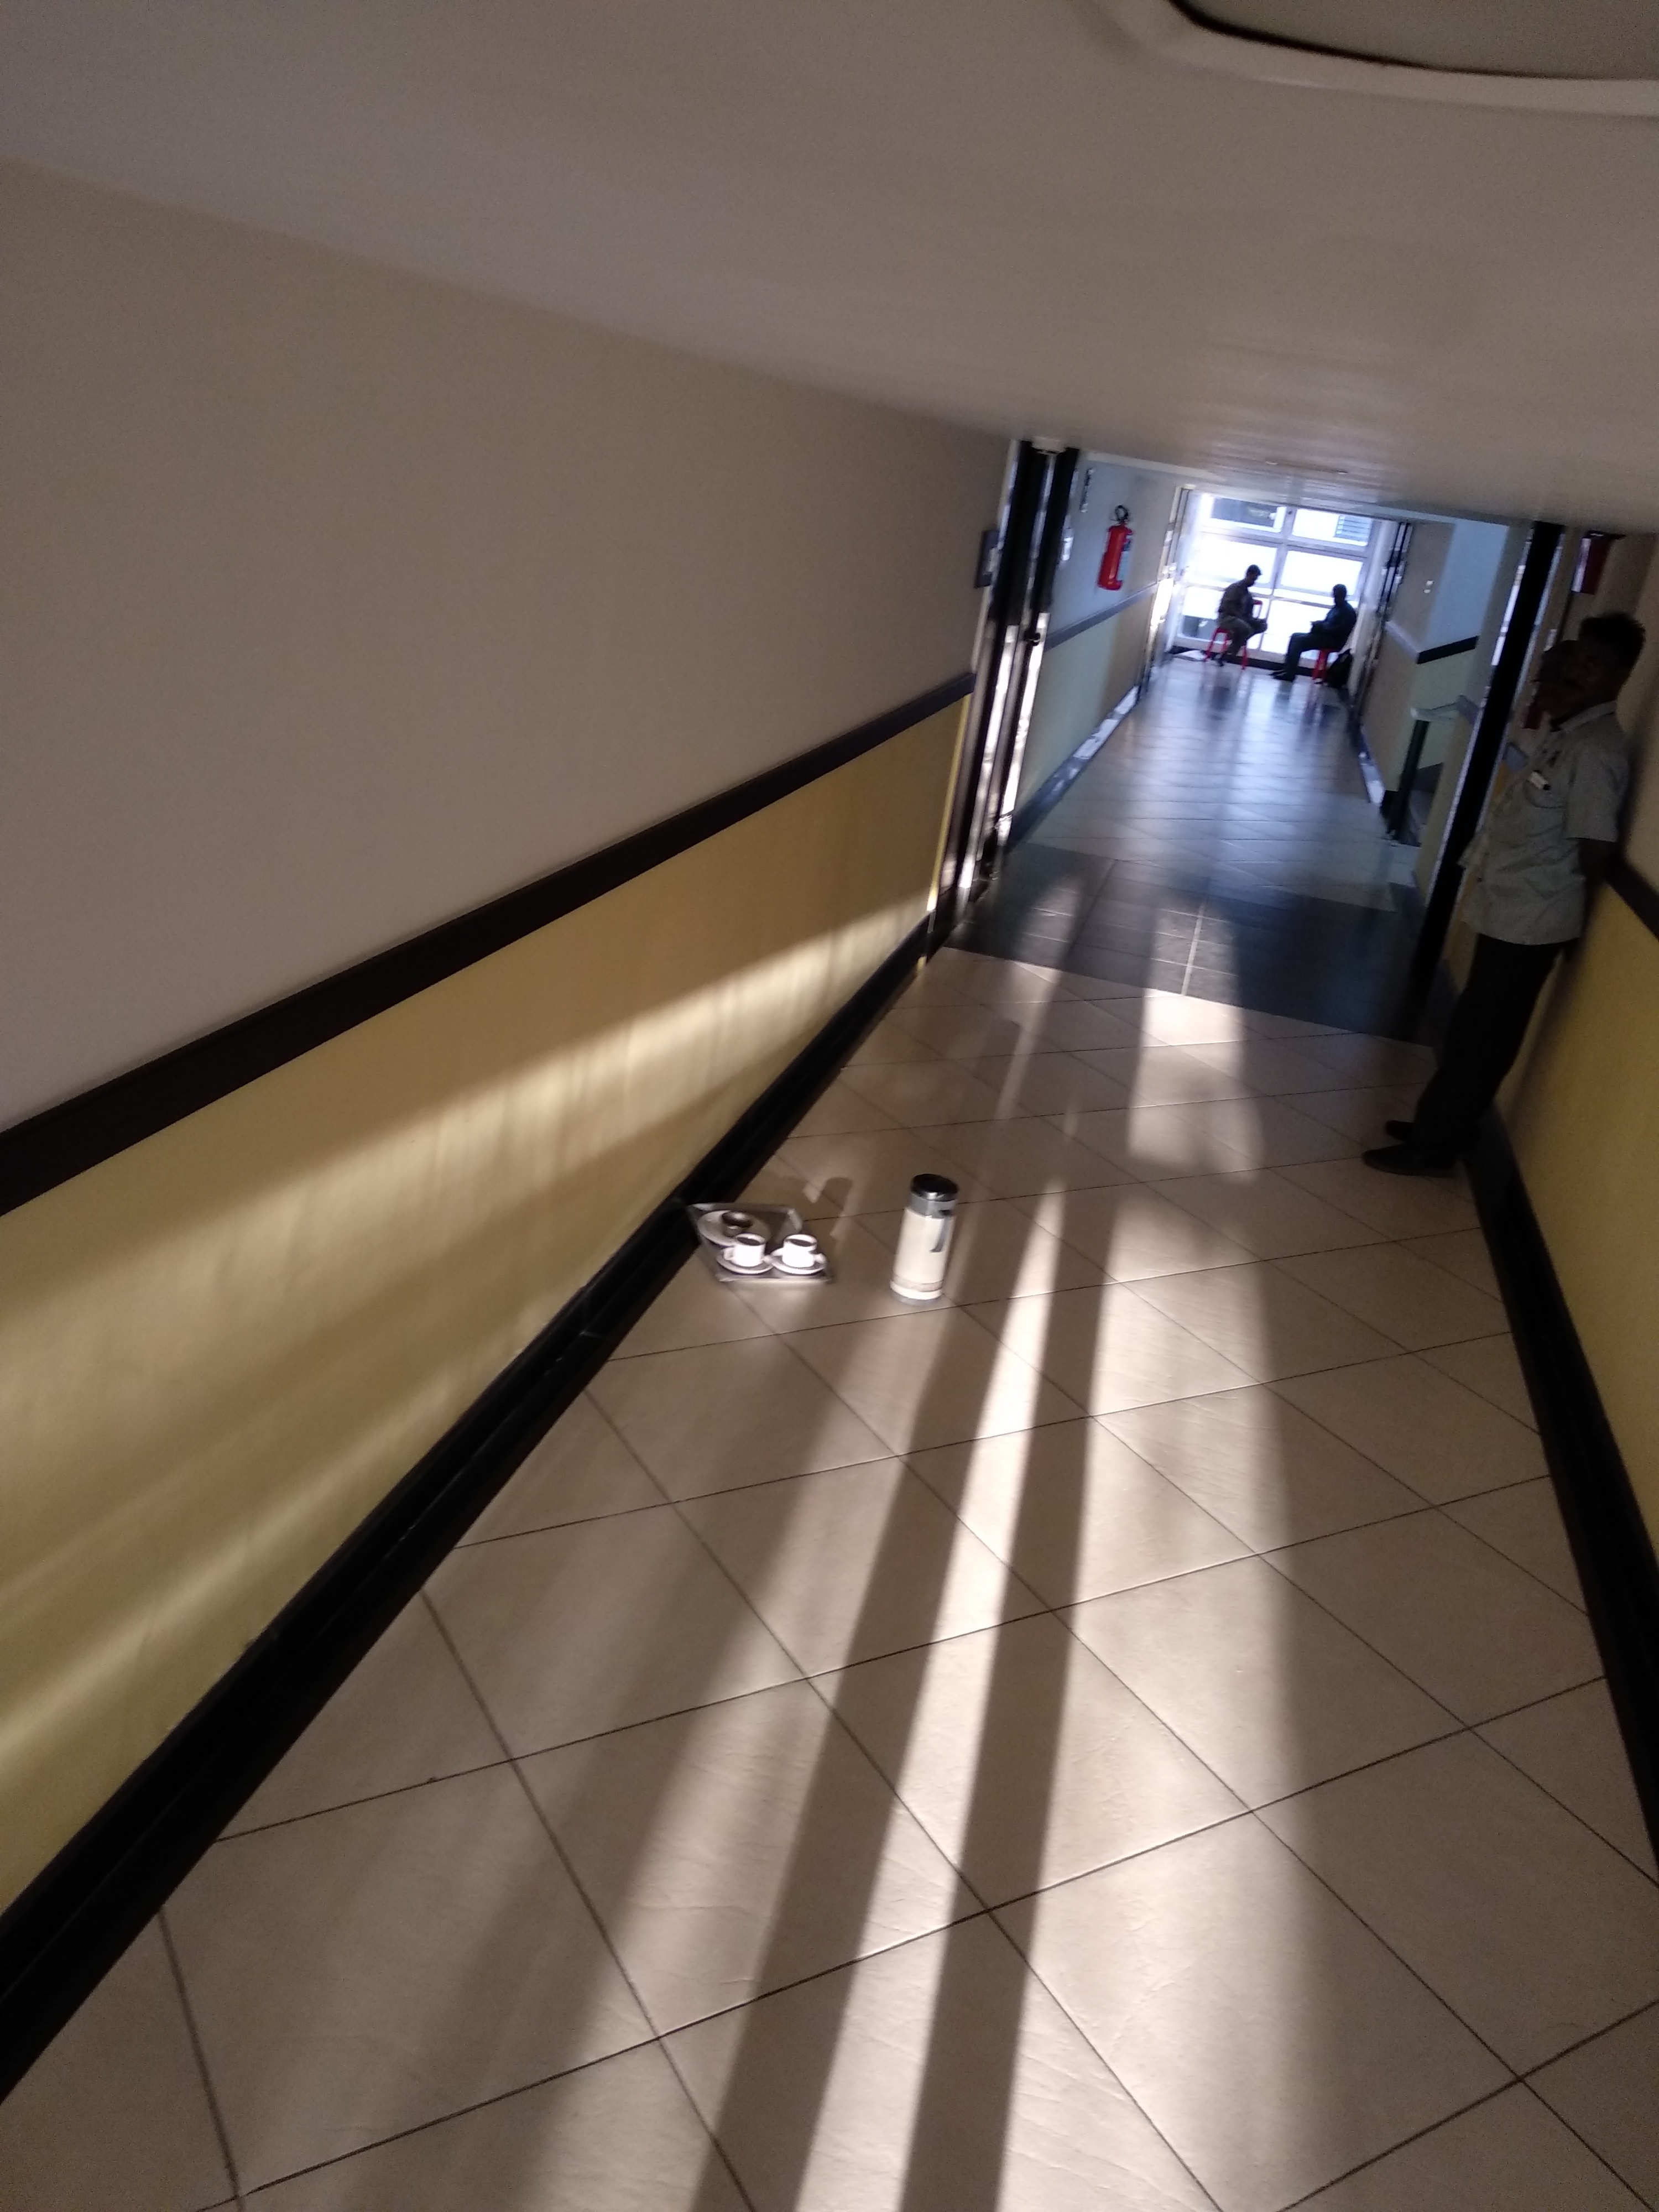CUP: (781, 1230, 826, 1270), (723, 1230, 769, 1266), (718, 1209, 756, 1231)
JUG: (892, 1157, 967, 1313)
